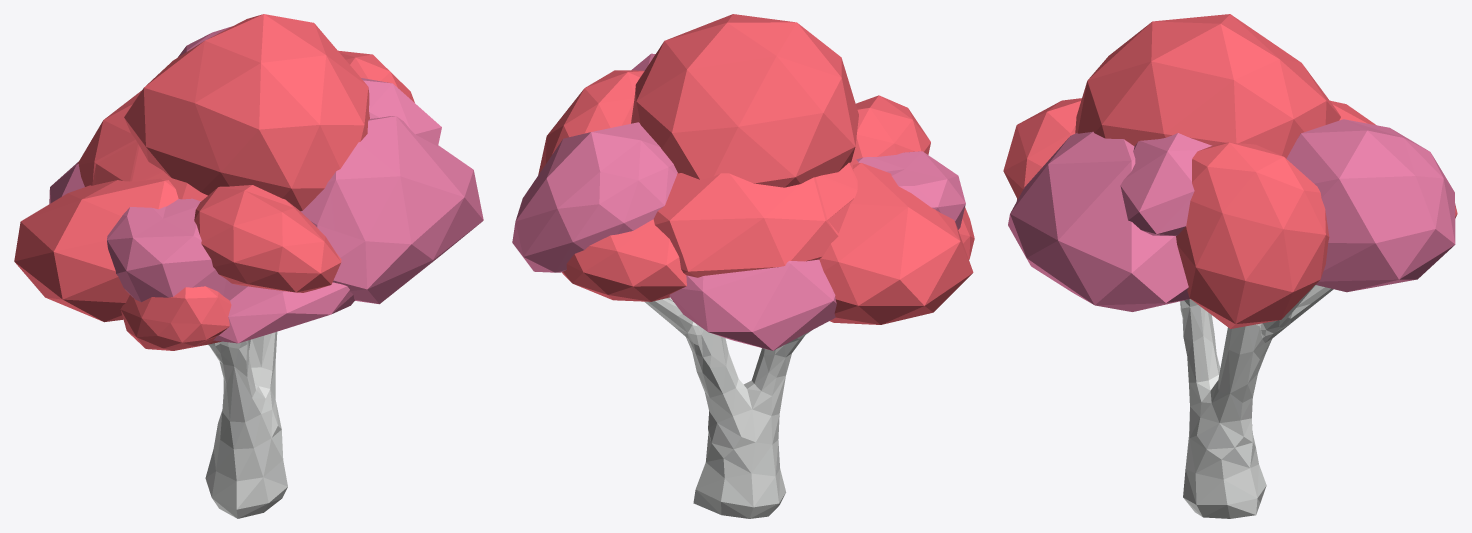
File: cherryTree.fbx
The picture shows the model from 3 angles, left to right: view 1: azimuth 30°, elevation 25°; view 2: azimuth 150°, elevation 25°; view 3: azimuth 270°, elevation 25°; orthographic projection. The views are drawn at different scales.
Visible parts, largest first — view 1: CherryTreee; view 2: CherryTreee; view 3: CherryTreee.
Boxes of the visible parts, x1,y1,x2,y2 form: CherryTreee: (14, 14, 483, 518); CherryTreee: (512, 14, 974, 518); CherryTreee: (1003, 14, 1457, 518).
Bounding box in the file's own units: 145 × 171 × 142.
